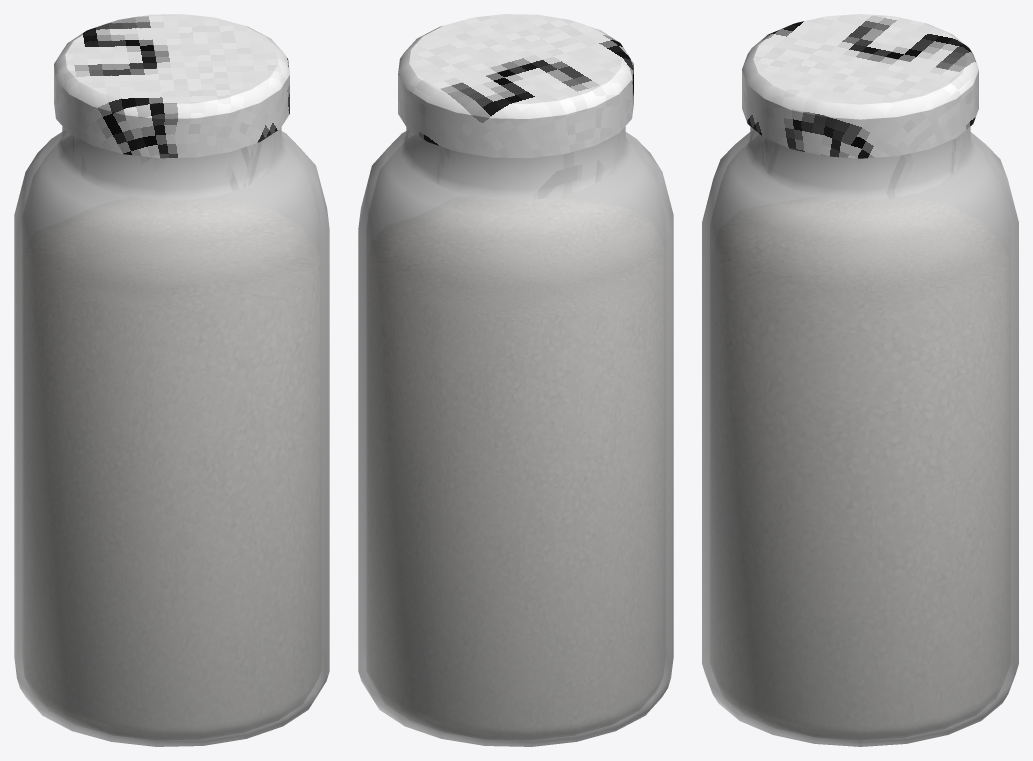
File: kitchen-glass-jar-high.obj
The picture shows the model from 3 angles, left to right: view 1: azimuth 30°, elevation 25°; view 2: azimuth 150°, elevation 25°; view 3: azimuth 270°, elevation 25°; orthographic projection.
Visible parts, largest first — view 1: GlassJar2.002, WoodenTop.002; view 2: GlassJar2.002, WoodenTop.002; view 3: GlassJar2.002, WoodenTop.002.
Boxes of the visible parts, <box> form: GlassJar2.002: <box>14,126,329,746</box>; WoodenTop.002: <box>54,14,289,158</box>; GlassJar2.002: <box>358,126,673,746</box>; WoodenTop.002: <box>398,14,633,158</box>; GlassJar2.002: <box>702,126,1018,746</box>; WoodenTop.002: <box>742,14,978,158</box>.
Size of the model in its own units: 9.89 by 21.79 by 9.89.
